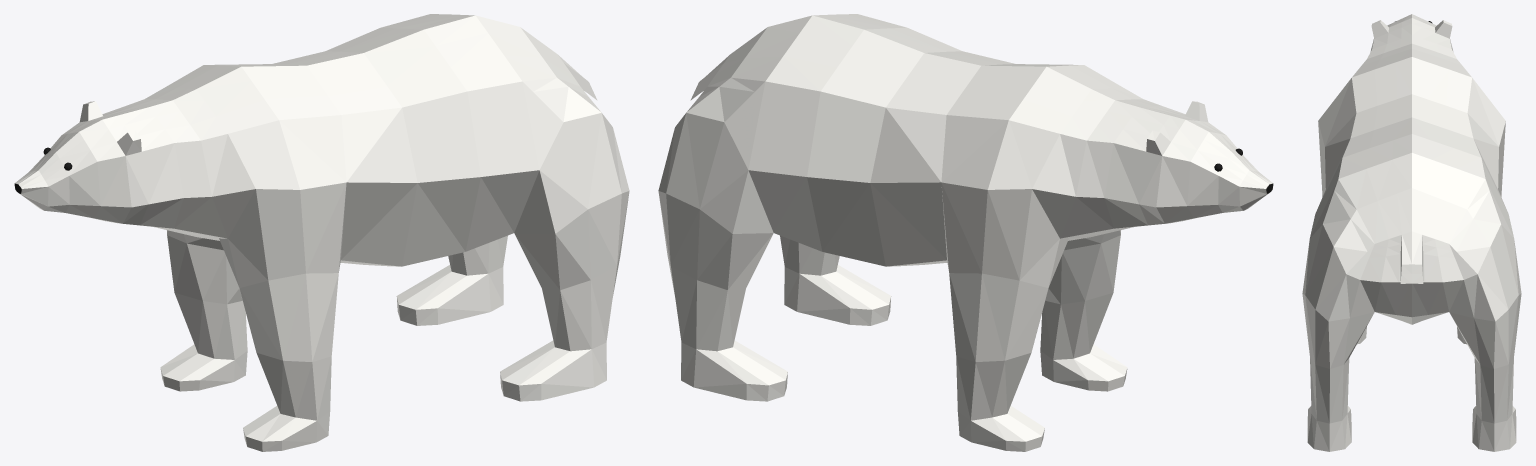
The model's file is polar_bear.glb.
The picture shows the model from 3 angles, left to right: view 1: azimuth 30°, elevation 25°; view 2: azimuth 150°, elevation 25°; view 3: azimuth 270°, elevation 25°; orthographic projection. The views are drawn at different scales.
Visible parts, largest first — view 1: polarBear_geo; view 2: polarBear_geo; view 3: polarBear_geo.
Boxes of the visible parts, x1,y1,x2,y2 form: polarBear_geo: [14, 14, 629, 451]; polarBear_geo: [658, 14, 1273, 451]; polarBear_geo: [1302, 14, 1521, 451].
Bounding box in the file's own units: 2.1 × 1.21 × 0.8739.
1 material, 1 textured.
